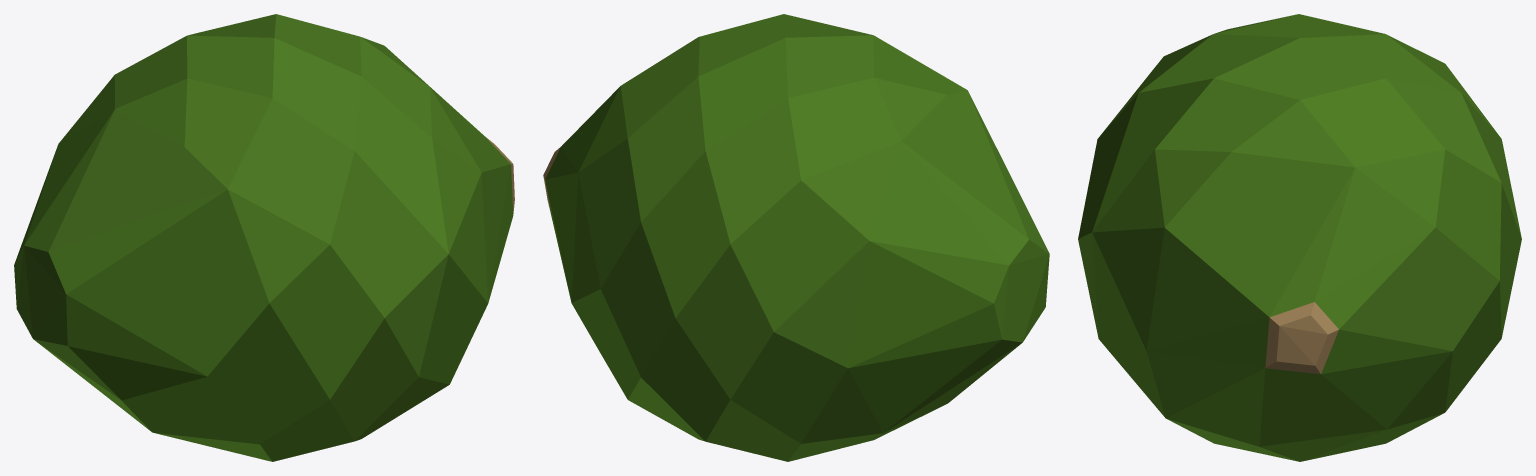
Rendered from lime.glb.
3 views of the same model, side by side, from view 1: azimuth 30°, elevation 25°; view 2: azimuth 150°, elevation 25°; view 3: azimuth 270°, elevation 25° (orthographic).
Visible parts, largest first — view 1: lime; view 2: lime; view 3: lime.
Part boxes in pixels (box(x1,y1,x2,y2)): lime: box(14, 14, 514, 461); lime: box(543, 14, 1049, 461); lime: box(1078, 14, 1521, 461).
Size of the model in its own units: 1.09 by 0.8898 by 0.8898.
